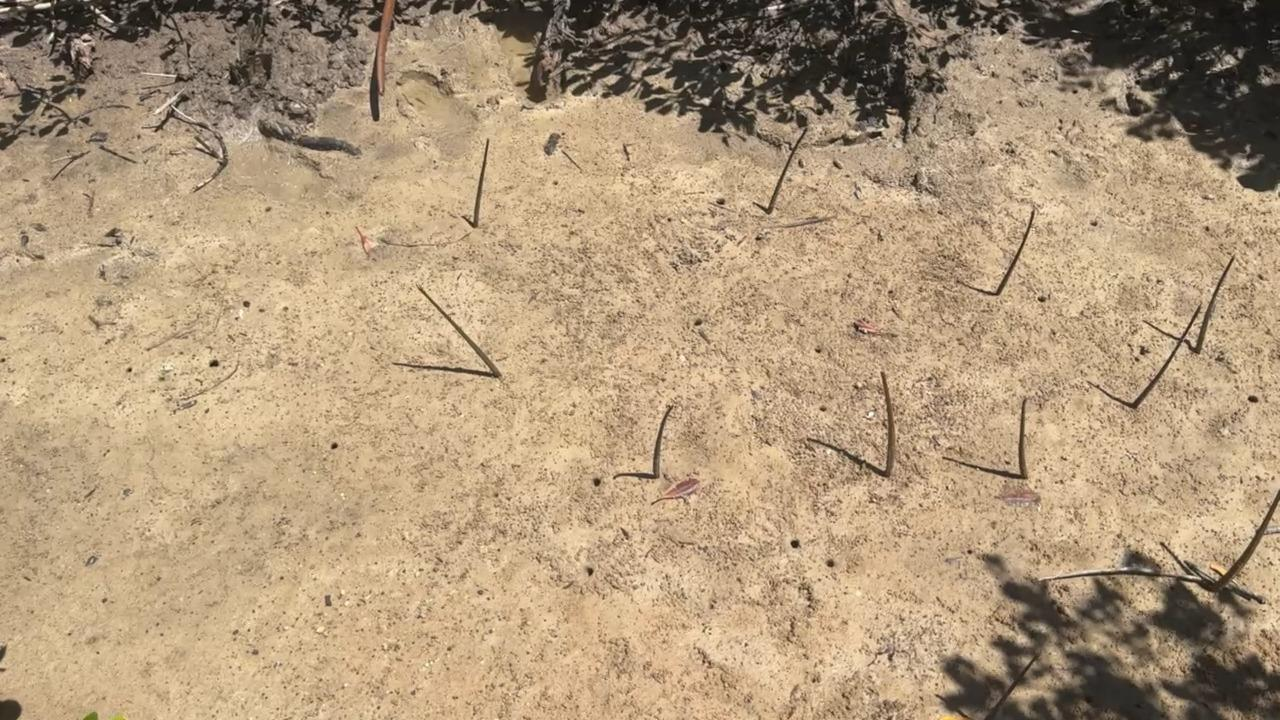Tree: (417, 287, 502, 379), (1131, 304, 1204, 410), (1208, 489, 1280, 592), (1195, 256, 1234, 355), (765, 126, 808, 215), (995, 211, 1036, 297), (879, 370, 895, 476), (474, 136, 491, 228), (652, 405, 673, 479), (1018, 399, 1029, 480)
